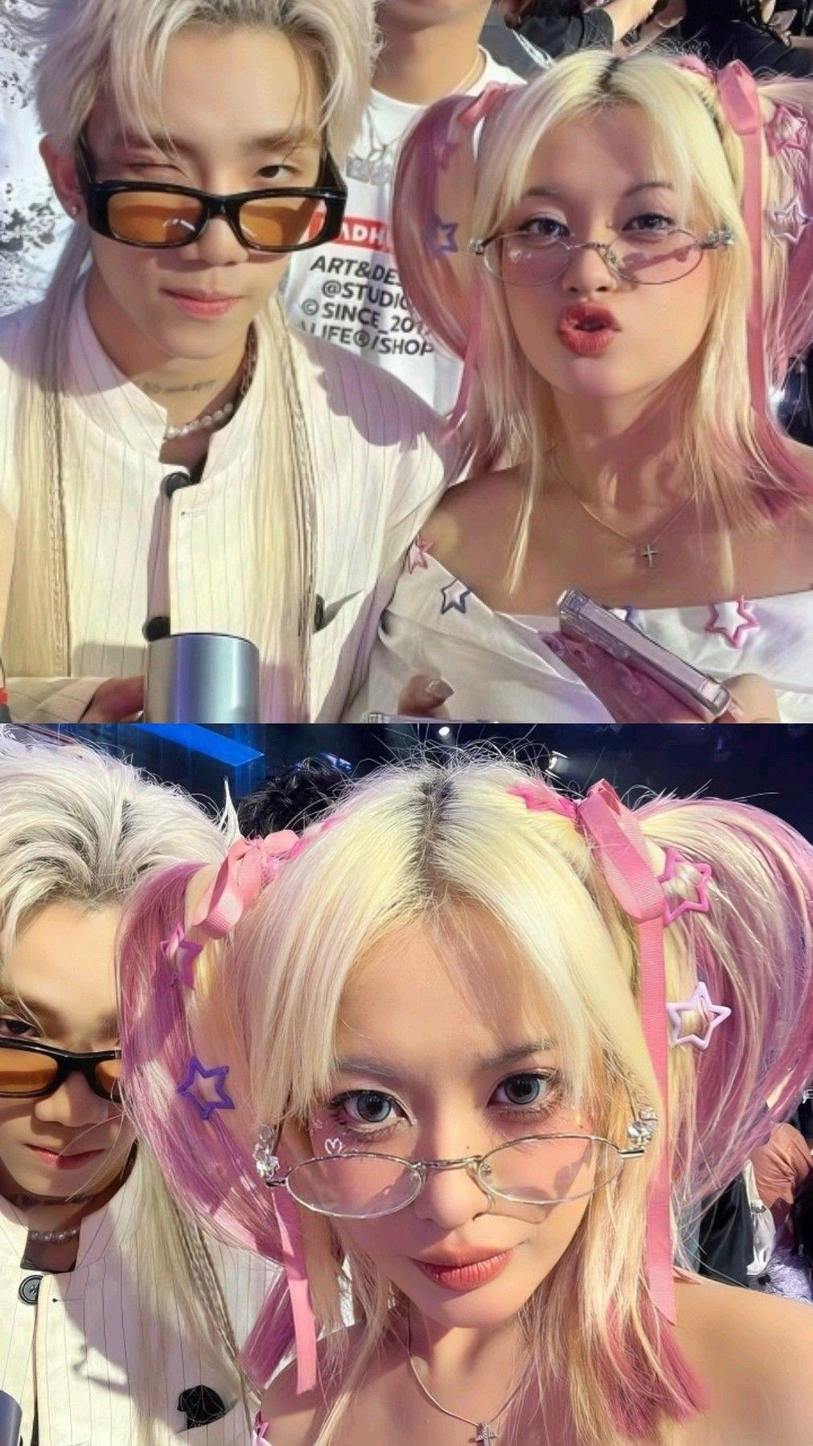non-dog: (112, 756, 813, 1446), (0, 0, 454, 724), (339, 43, 813, 724), (0, 736, 275, 1446), (273, 0, 534, 417)
